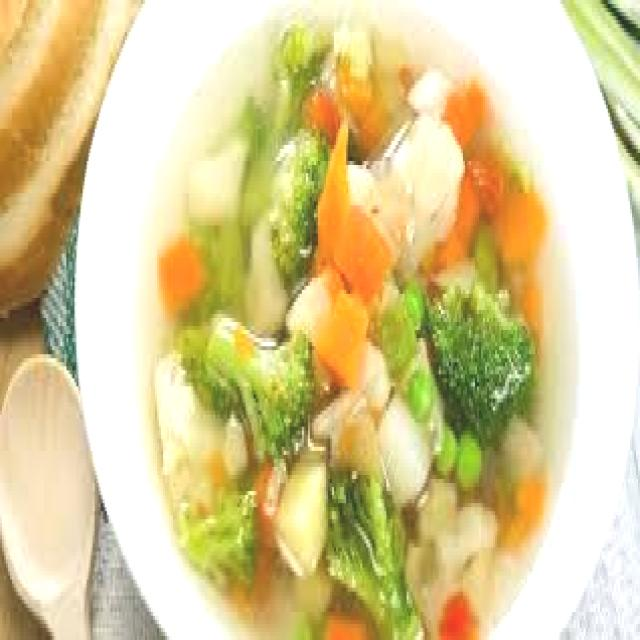sop: (141, 0, 578, 640)
